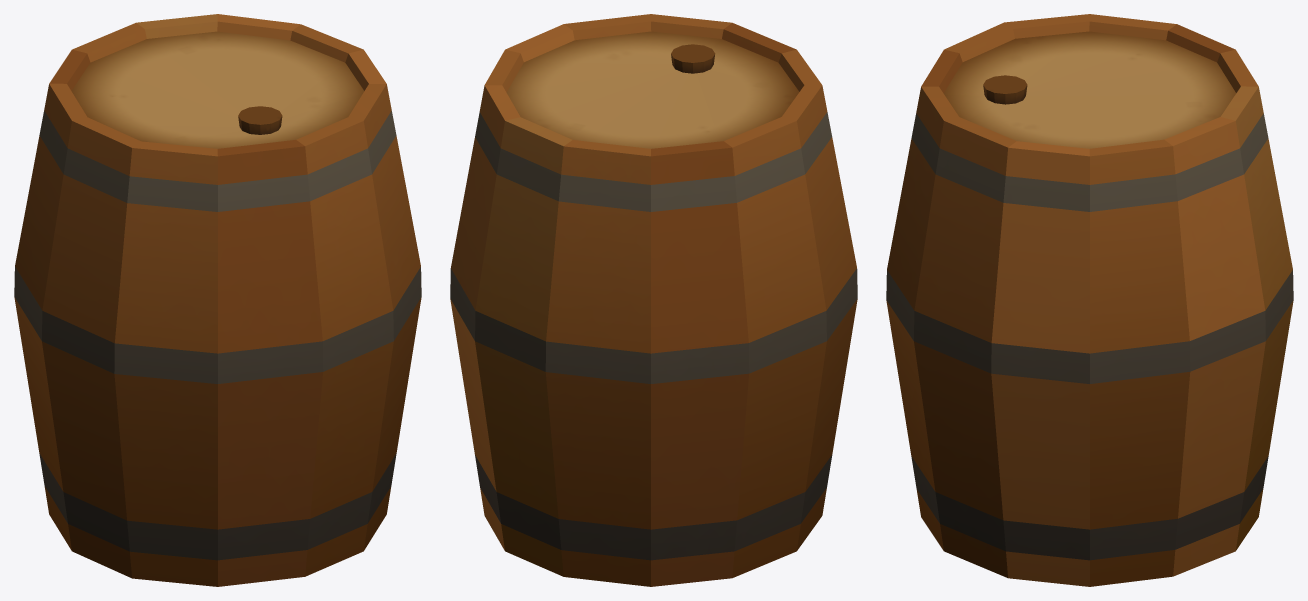
File: Barrel_B.fbx
The picture shows the model from 3 angles, left to right: view 1: azimuth 30°, elevation 25°; view 2: azimuth 150°, elevation 25°; view 3: azimuth 270°, elevation 25°; orthographic projection.
Visible parts, largest first — view 1: Barrel_B; view 2: Barrel_B; view 3: Barrel_B.
Boxes of the visible parts, x1,y1,x2,y2 form: Barrel_B: (14,14,421,586); Barrel_B: (450,14,857,586); Barrel_B: (886,14,1293,586).
Size of the model in its own units: 83.55 by 97.79 by 83.74.
